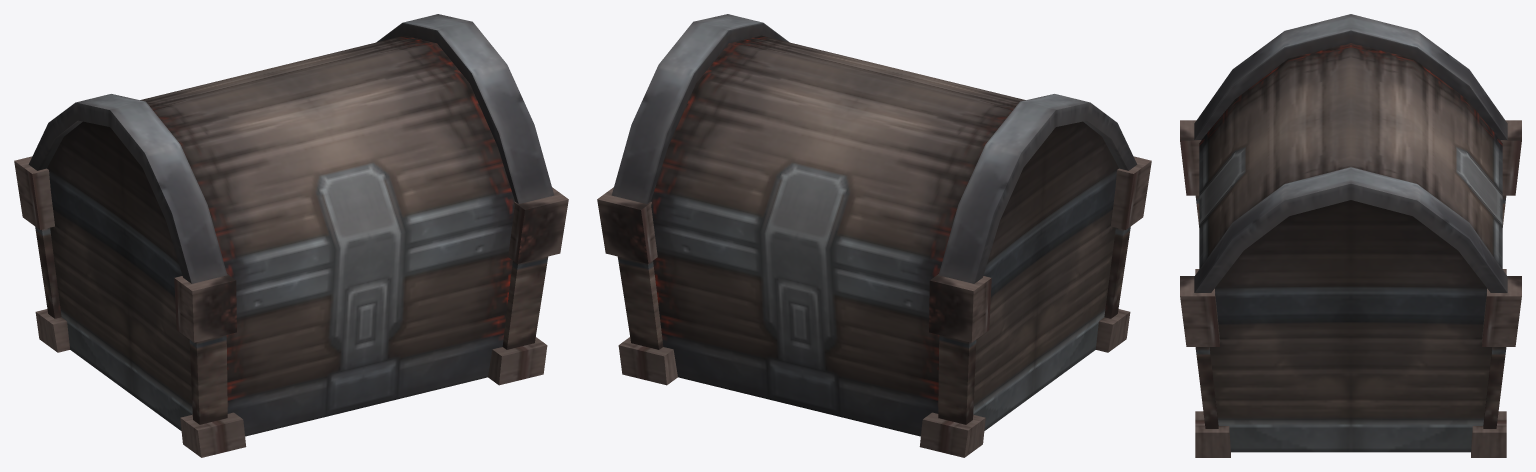
The model's file is sc_heishi_box_001_g.FBX.
3 views of the same model, side by side, from view 1: azimuth 30°, elevation 25°; view 2: azimuth 150°, elevation 25°; view 3: azimuth 270°, elevation 25° (orthographic). The views are drawn at different scales.
Visible parts, largest first — view 1: sc_heishi_box_001_g; view 2: sc_heishi_box_001_g; view 3: sc_heishi_box_001_g.
Boxes of the visible parts, x1=… form: sc_heishi_box_001_g: x1=14, y1=14, x2=568, y2=457; sc_heishi_box_001_g: x1=597, y1=14, x2=1151, y2=457; sc_heishi_box_001_g: x1=1180, y1=14, x2=1521, y2=457.
Bounding box in the file's own units: 0.8062 × 0.5952 × 0.661.
1 material, 1 textured.
